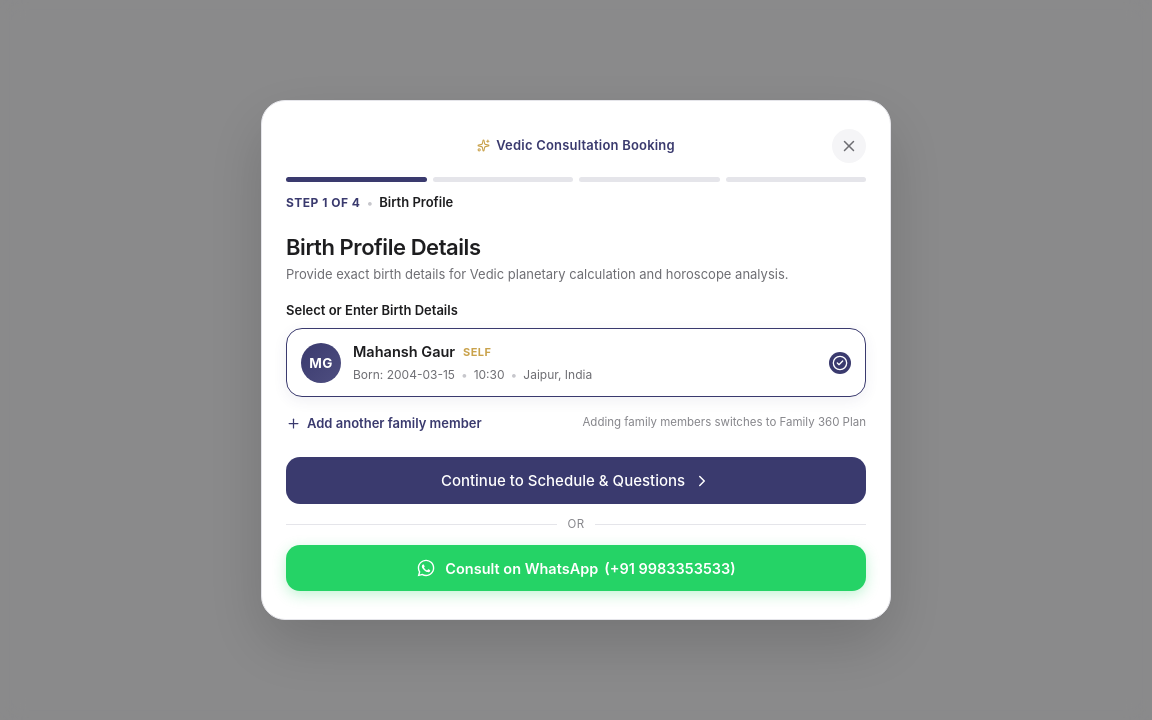
BookingModal Component Tests › automatically switches package to Family 360 when clicking "+ Add another family member"
The width and height of the screenshot is (1152, 720).
expect the text "Add another family member" is shown: met, box [307,415,482,431]
Click the button "Add another family member" at coordinates (384, 423), box [286,411,482,435]
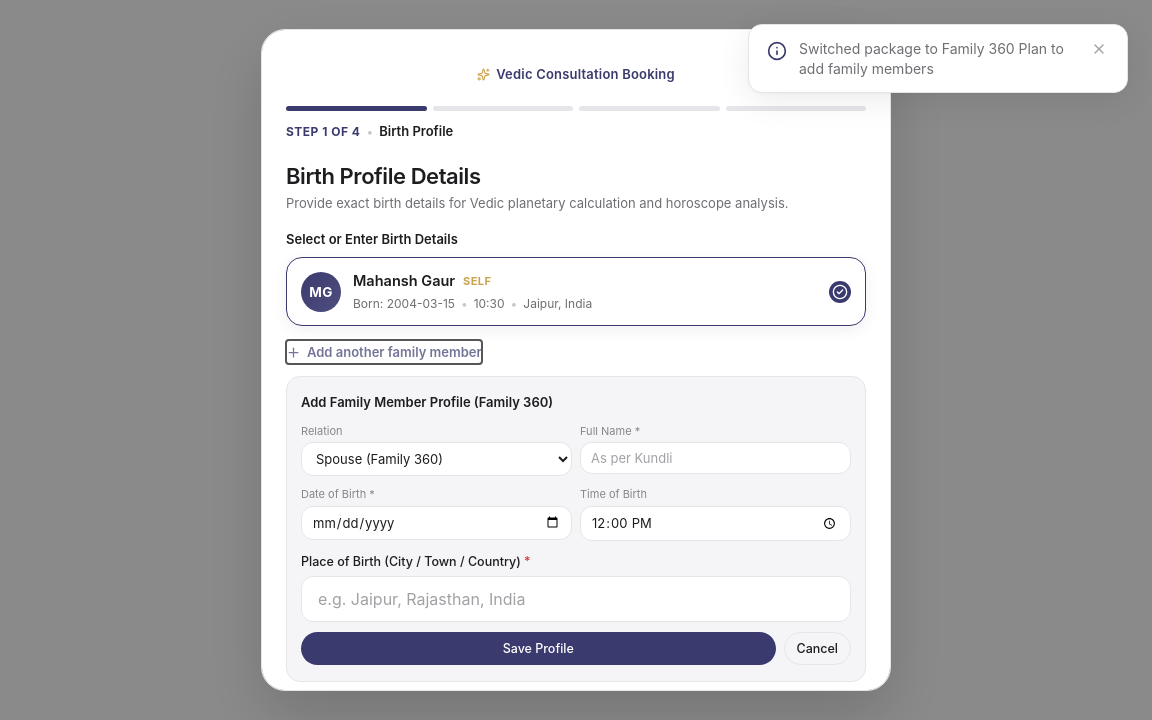
expect the text "Add Family Member Profile (Family 360)" is shown: met, box [301,393,553,412]
